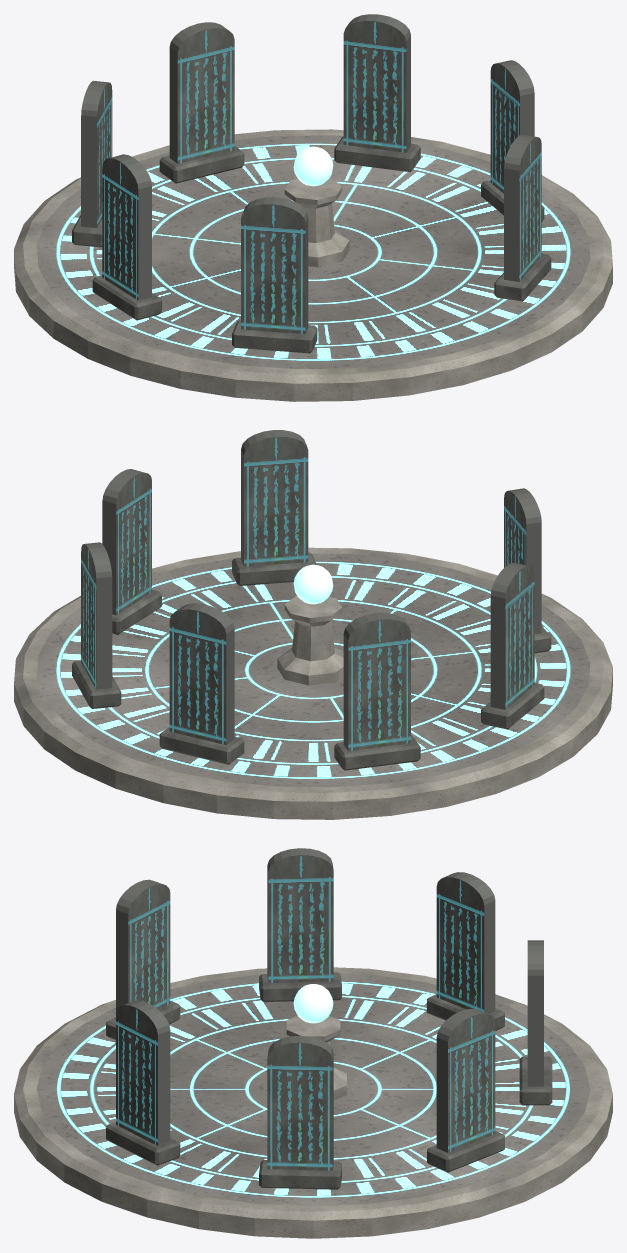
File: stone_tablet_array.glb
The picture shows the model from 3 angles, top to bottom: view 1: azimuth 30°, elevation 25°; view 2: azimuth 150°, elevation 25°; view 3: azimuth 270°, elevation 25°; orthographic projection.
Parts seen in each view (by area): view 1: ArrayDisc, ArrayTablets, ArrayPlatform, TabletBases, ArrayEye, ArrayOrb; view 2: ArrayDisc, ArrayTablets, ArrayPlatform, TabletBases, ArrayEye, ArrayOrb; view 3: ArrayDisc, ArrayTablets, ArrayPlatform, TabletBases, ArrayEye, ArrayOrb.
Part boxes in pixels (left/top/right/bottom): ArrayDisc: left=36, top=135, right=590, bottom=369; ArrayTablets: left=81, top=14, right=541, bottom=334; ArrayPlatform: left=14, top=129, right=612, bottom=401; TabletBases: left=72, top=136, right=551, bottom=353; ArrayEye: left=284, top=178, right=349, bottom=267; ArrayOrb: left=293, top=146, right=333, bottom=186; ArrayDisc: left=36, top=553, right=590, bottom=787; ArrayTablets: left=81, top=430, right=541, bottom=751; ArrayPlatform: left=14, top=547, right=612, bottom=819; TabletBases: left=72, top=552, right=551, bottom=770; ArrayEye: left=277, top=596, right=343, bottom=685; ArrayOrb: left=293, top=564, right=333, bottom=604; ArrayDisc: left=36, top=973, right=590, bottom=1206; ArrayTablets: left=116, top=848, right=543, bottom=1170; ArrayPlatform: left=14, top=967, right=612, bottom=1238; TabletBases: left=106, top=972, right=552, bottom=1189; ArrayEye: left=286, top=1015, right=346, bottom=1100; ArrayOrb: left=293, top=984, right=333, bottom=1023.
Size of what is drawn, in the model's own units: 6.6 by 2.03 by 6.6.
5 materials, 4 textured.
